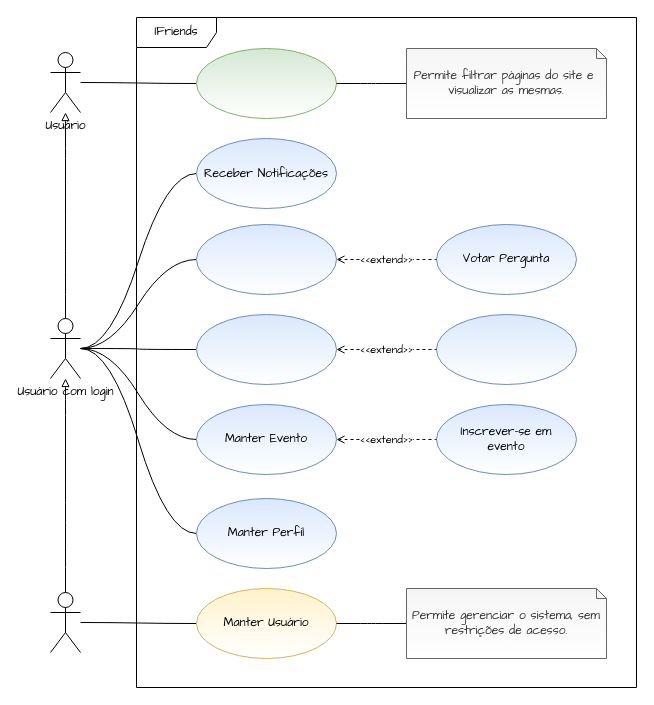
This 654x705 diagram has some shape labels left out. The centre of each missing label's shape, as x and y in pixels:
"Administrador" goes at pixel 65 622.
"Filtrar Páginas" goes at pixel 266 83.
"Manter Pergunta" goes at pixel 266 259.
"Manter Resposta" goes at pixel 266 349.
"Votar Resposta" goes at pixel 506 349.
